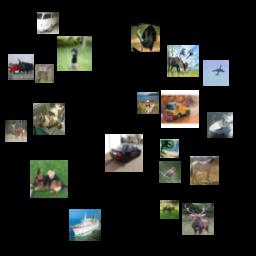airplane: (203, 60, 229, 86)
automobile: (105, 134, 143, 172), (37, 12, 59, 34)
bird: (57, 36, 92, 71), (131, 23, 160, 52), (159, 161, 181, 183)
cat: (33, 103, 65, 135)
deer: (167, 45, 199, 77), (182, 203, 214, 235), (5, 120, 27, 142), (160, 200, 179, 219), (35, 64, 54, 83)
dog: (30, 160, 68, 198), (137, 92, 159, 114)
frog: (160, 139, 179, 158)
ship: (69, 209, 101, 241), (207, 112, 233, 138)
truck: (161, 90, 199, 128), (8, 54, 34, 80)
